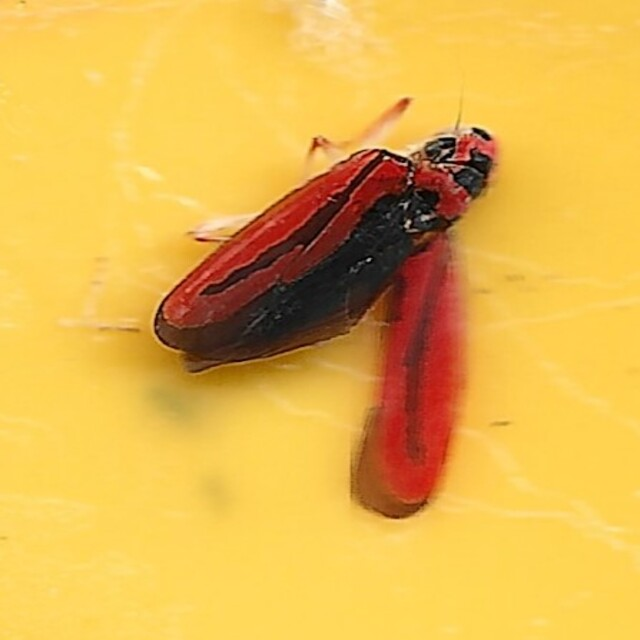Hemiptera: (143, 117, 497, 523)
